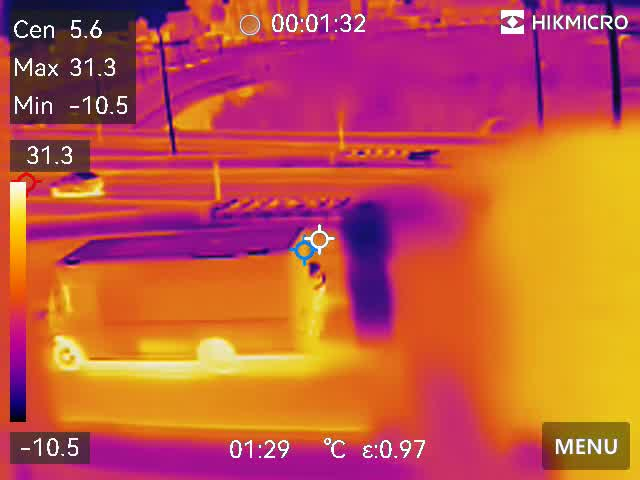heavyTruck: (39, 221, 333, 384)
vehicle: (45, 169, 115, 203)
